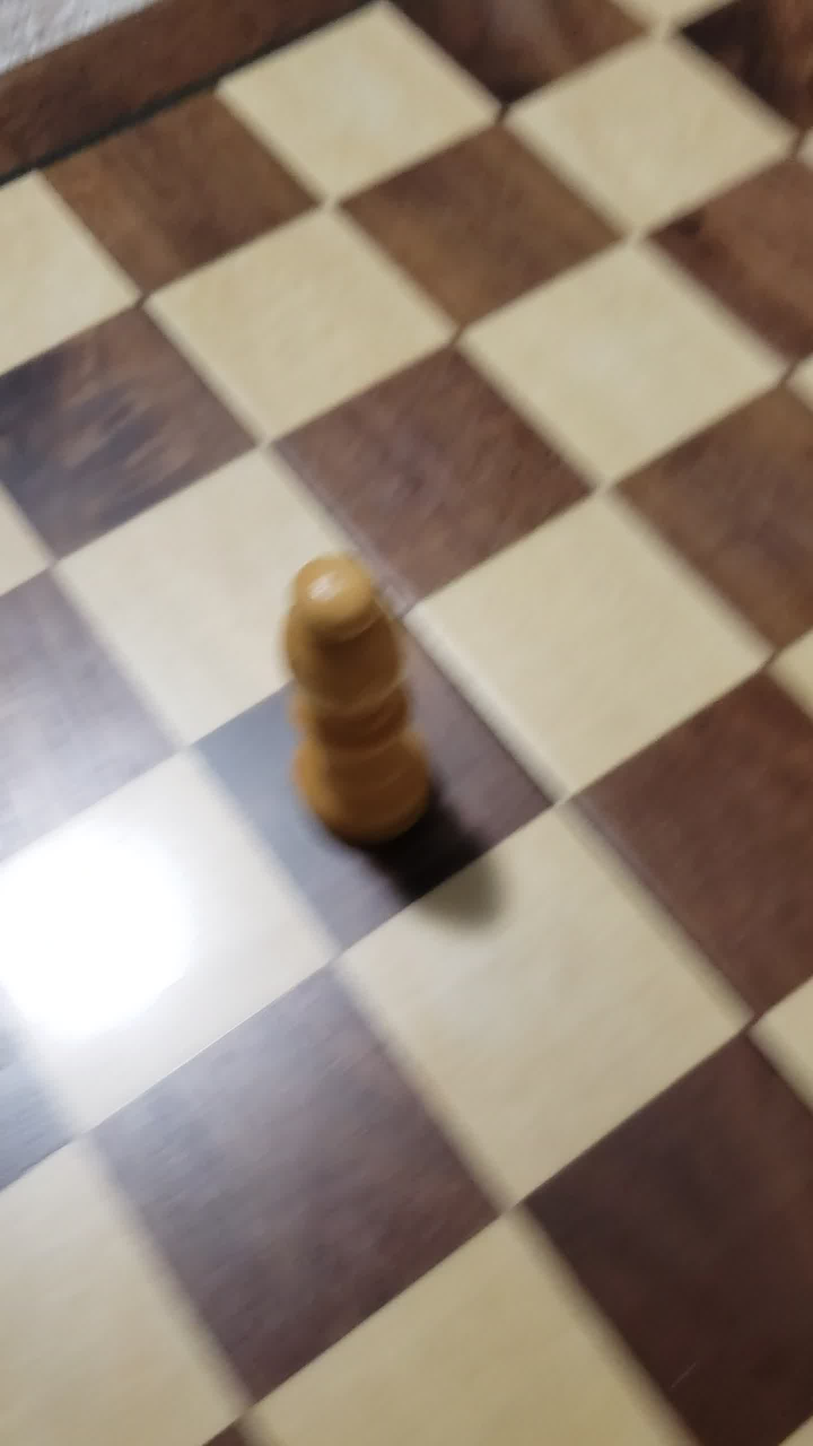white-bishop: (195, 543, 496, 877)
